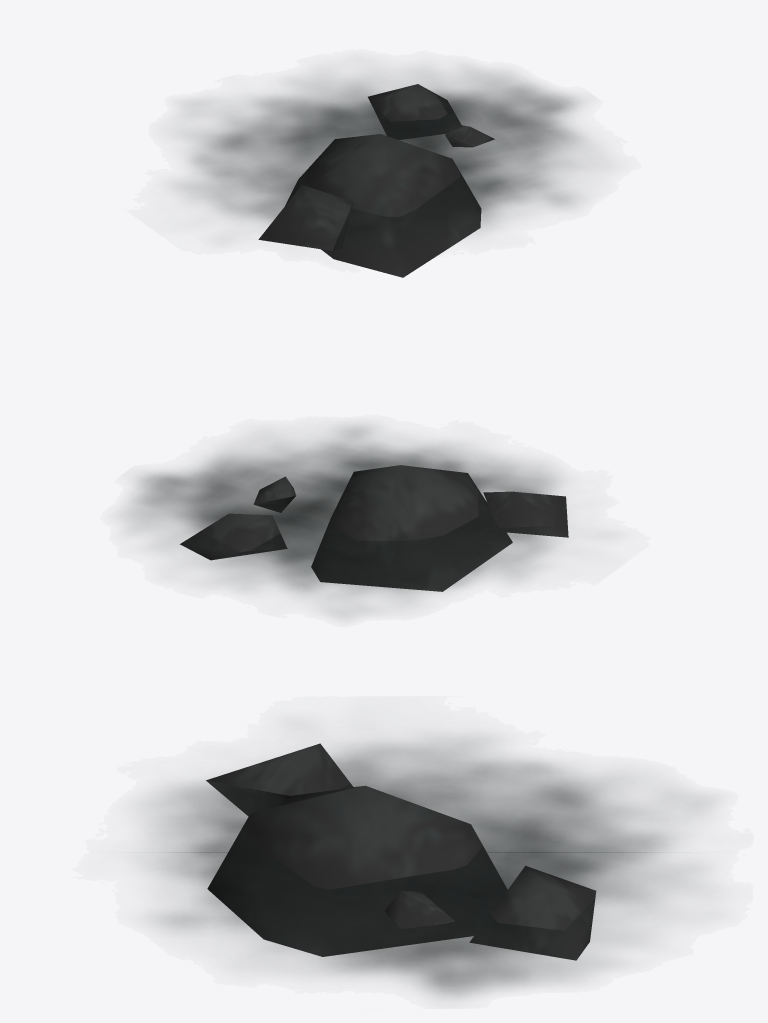
3 renders of one model, top to bottom at view 1: azimuth 30°, elevation 25°; view 2: azimuth 150°, elevation 25°; view 3: azimuth 270°, elevation 25°, orthographic. The views are drawn at different scales.
Parts seen in each view (by area): view 1: plants_small_rock_b-1-underlay, plants_small_rock_b-0-plant; view 2: plants_small_rock_b-1-underlay, plants_small_rock_b-0-plant; view 3: plants_small_rock_b-1-underlay, plants_small_rock_b-0-plant.
Boxes of the visible parts, left/top/right/bottom form: plants_small_rock_b-1-underlay: left=181, top=71, right=583, bottom=250; plants_small_rock_b-0-plant: left=258, top=84, right=494, bottom=277; plants_small_rock_b-1-underlay: left=127, top=426, right=557, bottom=614; plants_small_rock_b-0-plant: left=180, top=465, right=568, bottom=591; plants_small_rock_b-1-underlay: left=147, top=738, right=700, bottom=997; plants_small_rock_b-0-plant: left=206, top=743, right=596, bottom=960.
Bounding box in the file's own units: 2 × 0.3783 × 2.
2 materials, 2 textured.
